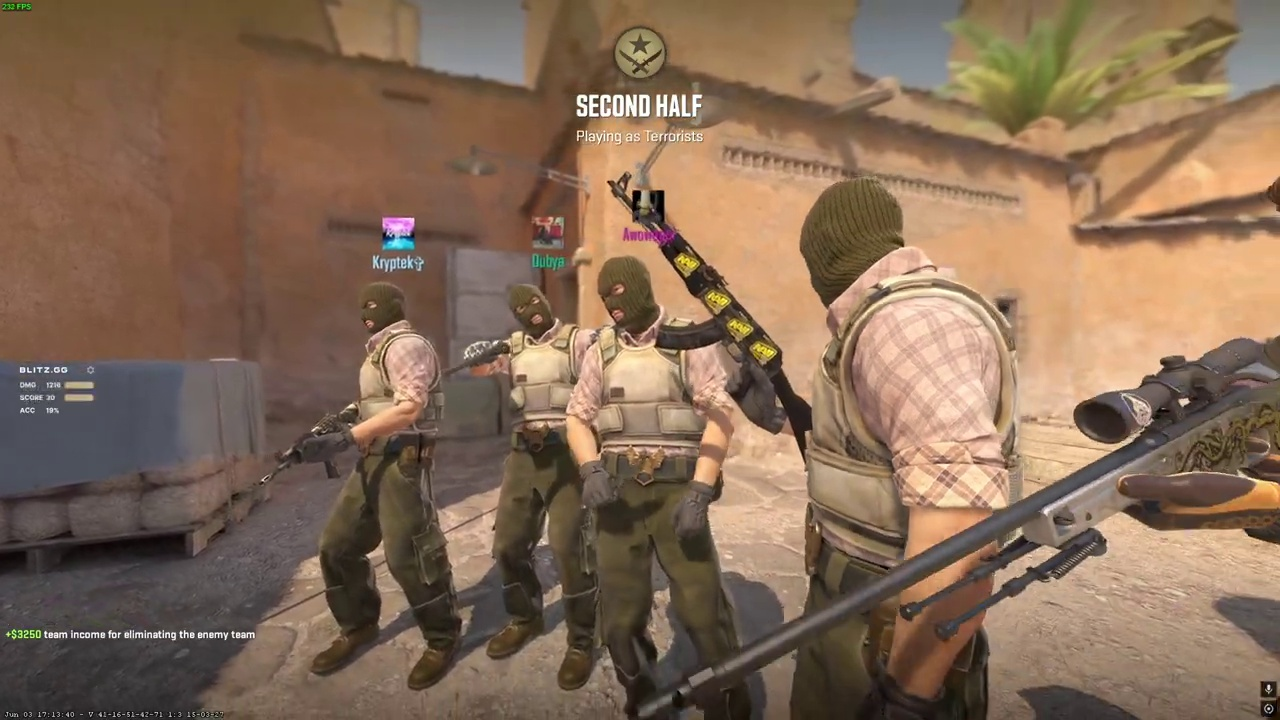Terrorist: (762, 177, 1024, 719), (570, 255, 744, 720), (313, 282, 463, 689), (471, 283, 606, 691)
